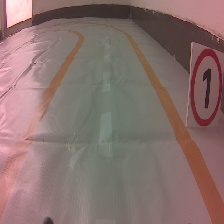limit: (184, 38, 224, 130)
